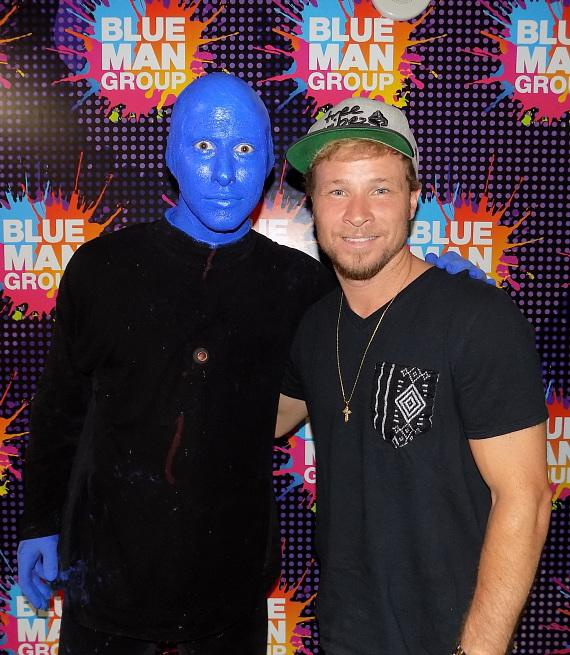bad: (306, 163, 414, 271), (175, 126, 265, 216)
